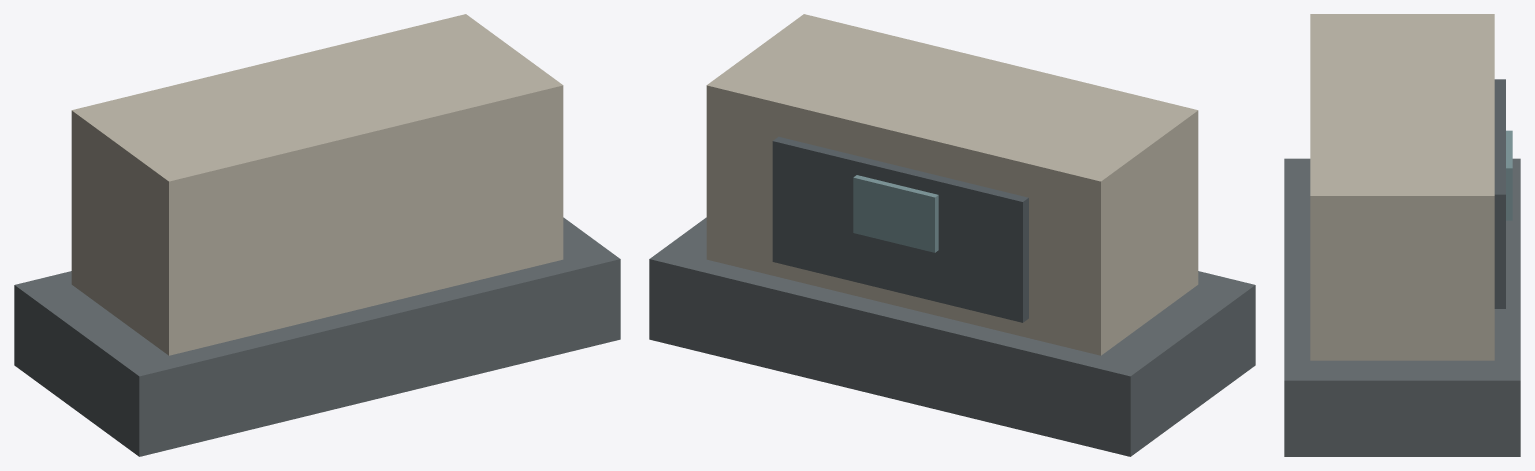
The model's file is iz3_production_carpentry_01.glb.
3 renders of one model, left to right at view 1: azimuth 30°, elevation 25°; view 2: azimuth 150°, elevation 25°; view 3: azimuth 270°, elevation 25°, orthographic. The views are drawn at different scales.
Parts seen in each view (by area): view 1: cabinet, base; view 2: cabinet, base, panel, display; view 3: cabinet, base, panel, display.
Part boxes in pixels (x1=…): cabinet: x1=71, y1=14, x2=563, y2=355; base: x1=14, y1=217, x2=620, y2=456; cabinet: x1=706, y1=14, x2=1198, y2=355; base: x1=649, y1=217, x2=1255, y2=456; panel: x1=772, y1=136, x2=1028, y2=322; display: x1=853, y1=175, x2=938, y2=252; cabinet: x1=1310, y1=14, x2=1494, y2=360; base: x1=1284, y1=158, x2=1520, y2=456; panel: x1=1494, y1=79, x2=1505, y2=308; display: x1=1506, y1=130, x2=1512, y2=220.
Bounding box in the file's own units: 2 × 1.01 × 0.9.
